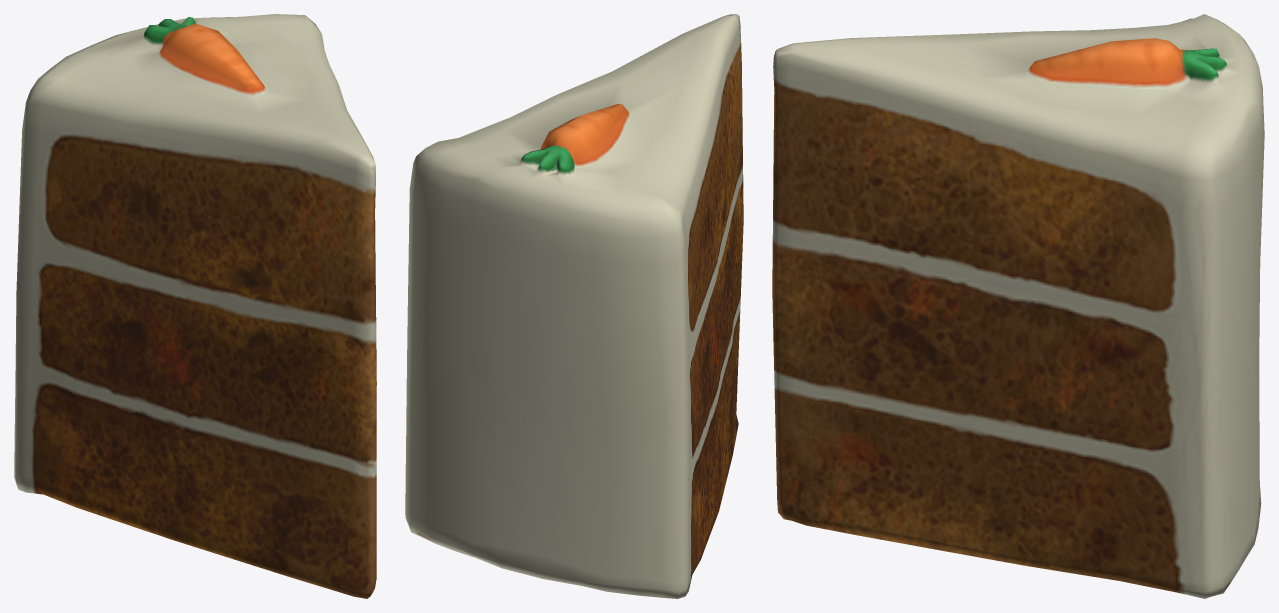
File: Cake_carrot.fbx
3 views of the same model, side by side, from view 1: azimuth 30°, elevation 25°; view 2: azimuth 150°, elevation 25°; view 3: azimuth 270°, elevation 25° (orthographic). The views are drawn at different scales.
Parts seen in each view (by area): view 1: CakeSliceCarrot; view 2: CakeSliceCarrot; view 3: CakeSliceCarrot.
Boxes of the visible parts, <box> form: CakeSliceCarrot: <box>14,14,376,598</box>; CakeSliceCarrot: <box>405,14,743,598</box>; CakeSliceCarrot: <box>772,14,1264,598</box>.
Bounding box in the file's own units: 0.8678 × 1.21 × 1.13.
